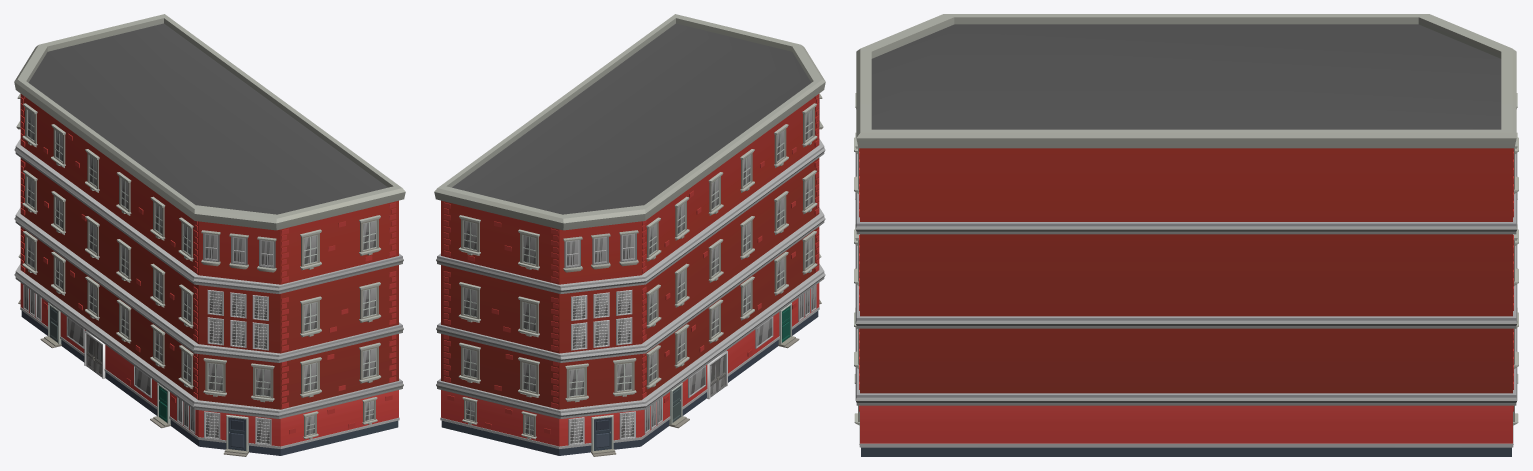
File: Building_25_6_A.fbx
The picture shows the model from 3 angles, left to right: view 1: azimuth 30°, elevation 25°; view 2: azimuth 150°, elevation 25°; view 3: azimuth 270°, elevation 25°; orthographic projection. The views are drawn at different scales.
Parts seen in each view (by area): view 1: Building_25_6_A; view 2: Building_25_6_A; view 3: Building_25_6_A.
Part boxes in pixels (left/top/right/bottom): Building_25_6_A: left=14, top=14, right=405, bottom=456; Building_25_6_A: left=434, top=14, right=825, bottom=456; Building_25_6_A: left=854, top=14, right=1518, bottom=456.
Size of the model in its own units: 1291 by 1596 by 2941.
